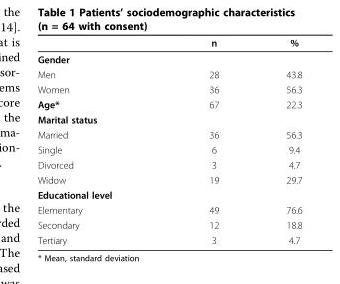table: (36, 36, 301, 245)
table column: (36, 36, 159, 245), (159, 36, 251, 245), (251, 36, 301, 245)
table column header: (36, 36, 301, 50)
table projected row header: (36, 50, 301, 66), (36, 111, 301, 126), (36, 187, 301, 202)
table row: (36, 50, 301, 66), (36, 141, 301, 157), (36, 66, 301, 81), (36, 81, 301, 96), (36, 96, 301, 111), (36, 111, 301, 126), (36, 126, 301, 141), (36, 157, 301, 172), (36, 172, 301, 187), (36, 187, 301, 202), (36, 202, 301, 217), (36, 217, 301, 232), (36, 36, 301, 50), (36, 232, 301, 245)
